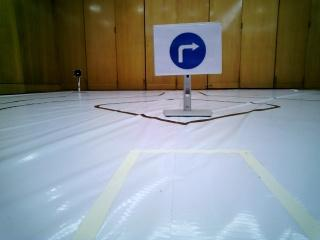right: (155, 24, 224, 74)
